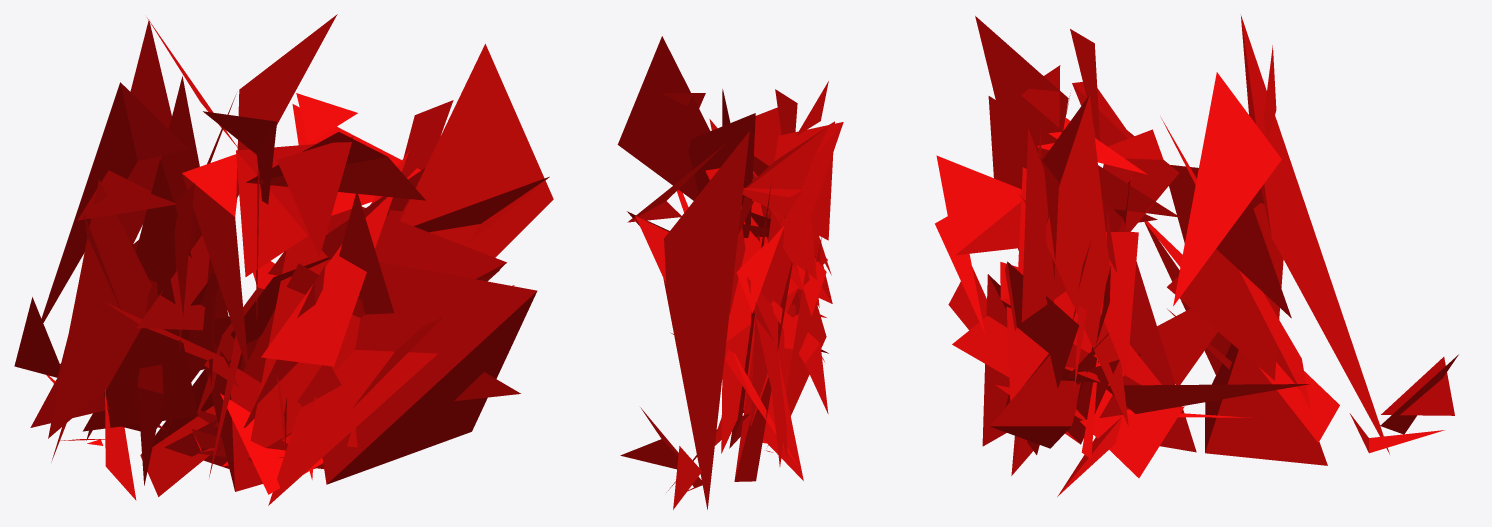
3 renders of one model, left to right at view 1: azimuth 30°, elevation 25°; view 2: azimuth 150°, elevation 25°; view 3: azimuth 270°, elevation 25°, orthographic. The views are drawn at different scales.
Parts seen in each view (by area): view 1: Renderer Node; view 2: Renderer Node; view 3: Renderer Node.
Boxes of the visible parts, x1,y1,x2,y2 form: Renderer Node: (14,14,553,505); Renderer Node: (617,36,843,509); Renderer Node: (935,14,1458,496).
Size of the model in its own units: 0.357 by 0.4602 by 0.4835.
1 material, 1 textured.
